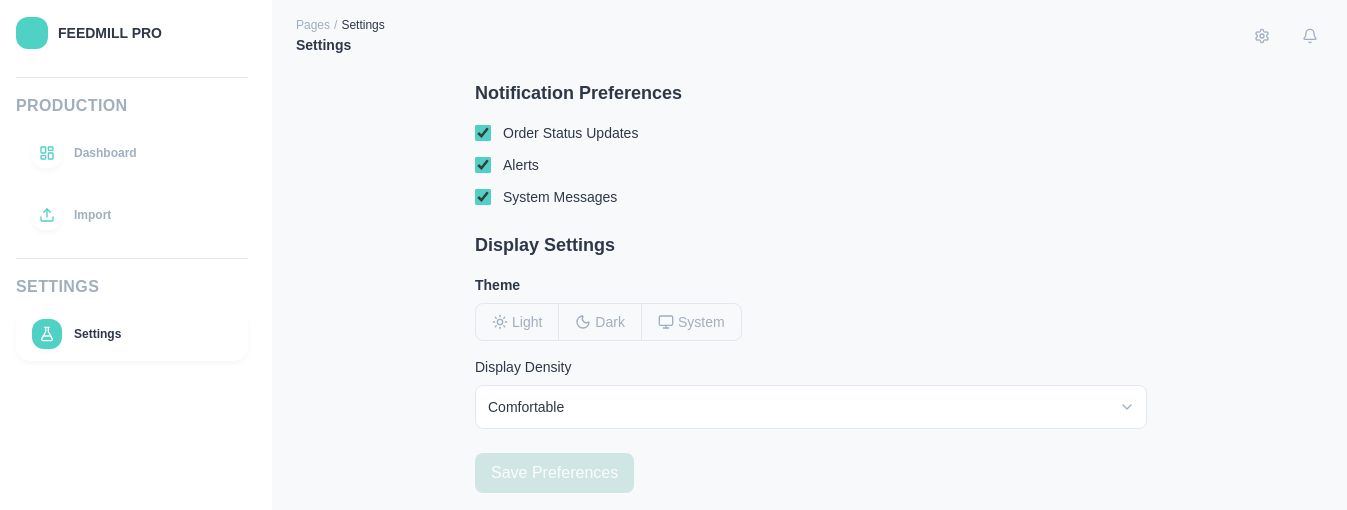
SettingsPage - MIG-04 Design System Migration › Form state management › Save button enables when density is changed
The width and height of the screenshot is (1347, 510).
Check: the button "Save Preferences" is disabled, box [475,453,634,493]
Select "Compact" in the dropdown labelled "Display Density" at (811, 407), box [475,385,1147,429]
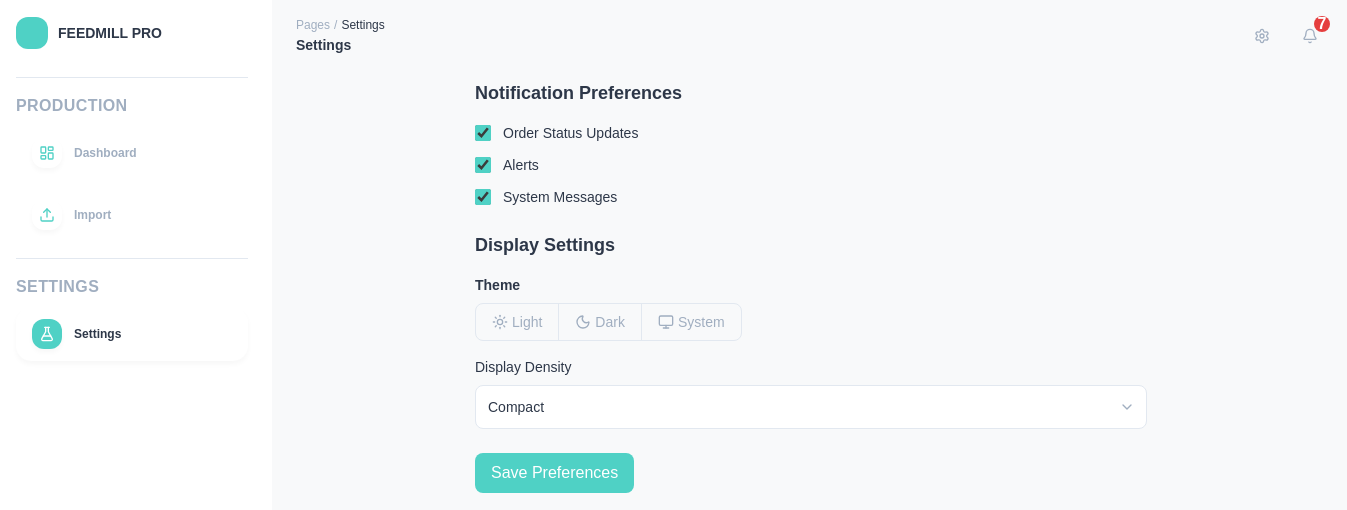
Check: the button "Save Preferences" is enabled, box [475,453,634,493]
